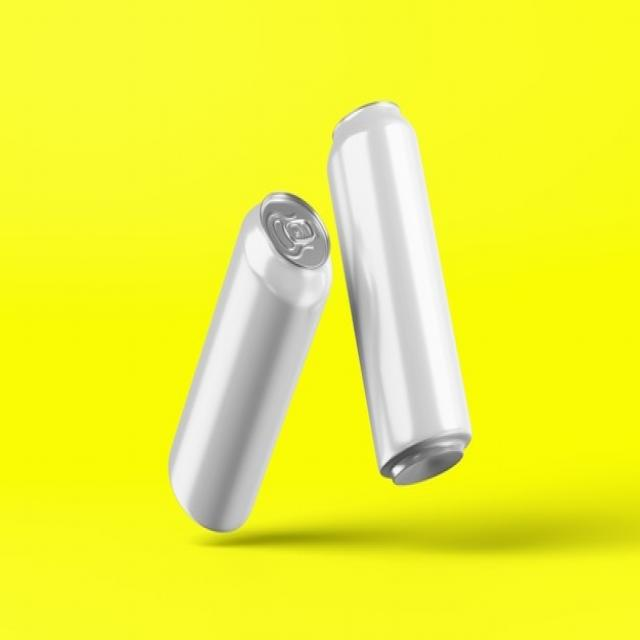non-organic waste: (325, 84, 501, 518), (163, 184, 339, 558)
